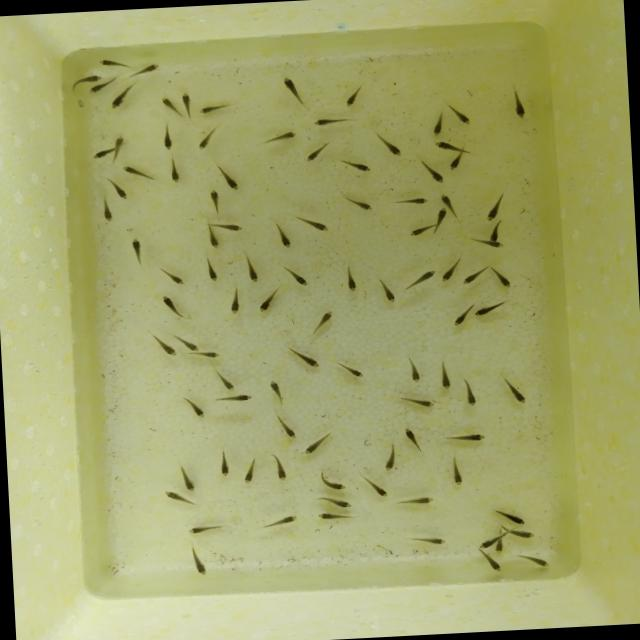fingerling: (501, 376, 530, 410), (419, 158, 450, 189), (292, 346, 322, 372), (298, 435, 330, 459), (404, 268, 441, 288), (216, 163, 241, 192), (202, 188, 228, 215), (378, 135, 406, 160), (468, 301, 506, 319), (318, 494, 356, 512), (310, 309, 335, 336), (105, 89, 131, 114), (285, 266, 312, 290), (432, 138, 470, 155), (255, 290, 278, 318), (121, 61, 167, 75), (456, 268, 485, 290), (343, 157, 378, 175), (116, 162, 151, 180), (109, 178, 133, 204), (448, 104, 474, 128), (278, 418, 300, 446), (344, 194, 378, 212), (188, 550, 207, 582), (210, 219, 248, 235), (160, 293, 184, 318), (160, 486, 190, 506), (278, 75, 302, 100), (448, 306, 473, 330), (187, 396, 210, 422), (154, 339, 180, 362), (309, 114, 346, 130), (461, 378, 480, 409), (266, 512, 302, 528), (162, 268, 188, 290), (492, 270, 518, 292), (304, 216, 334, 235), (260, 128, 300, 142), (406, 534, 446, 548), (482, 553, 506, 576), (439, 262, 462, 286), (362, 477, 388, 498), (444, 152, 471, 172), (66, 72, 104, 86), (342, 84, 364, 108), (214, 374, 238, 396), (272, 458, 290, 487), (511, 526, 540, 544), (524, 554, 556, 570), (276, 223, 294, 251), (402, 396, 438, 410), (178, 338, 206, 356), (246, 254, 260, 290), (448, 431, 490, 443), (436, 364, 454, 392), (203, 225, 223, 250), (192, 104, 233, 116), (302, 146, 329, 164), (180, 469, 198, 496), (320, 479, 352, 494), (242, 462, 260, 488), (268, 375, 284, 404), (379, 282, 398, 306), (486, 196, 504, 221), (218, 447, 232, 479), (203, 261, 220, 287), (165, 160, 182, 186), (84, 81, 110, 98), (344, 363, 368, 381), (91, 57, 127, 69), (185, 522, 212, 538), (400, 428, 421, 448), (160, 124, 174, 154), (474, 239, 512, 250), (163, 92, 180, 116), (192, 133, 212, 153), (128, 236, 147, 257), (510, 88, 524, 116), (401, 194, 429, 208), (500, 513, 530, 526), (431, 113, 446, 139), (384, 446, 399, 472), (186, 349, 221, 360), (316, 510, 348, 522), (402, 496, 440, 506), (180, 89, 193, 118), (344, 266, 357, 294), (227, 290, 241, 316), (222, 392, 255, 403), (433, 206, 448, 229), (451, 460, 463, 488), (100, 198, 112, 226), (404, 225, 428, 239), (89, 148, 117, 160), (438, 190, 454, 210), (112, 134, 124, 160), (409, 361, 422, 384), (476, 537, 494, 553), (495, 532, 504, 554), (490, 222, 499, 242)
